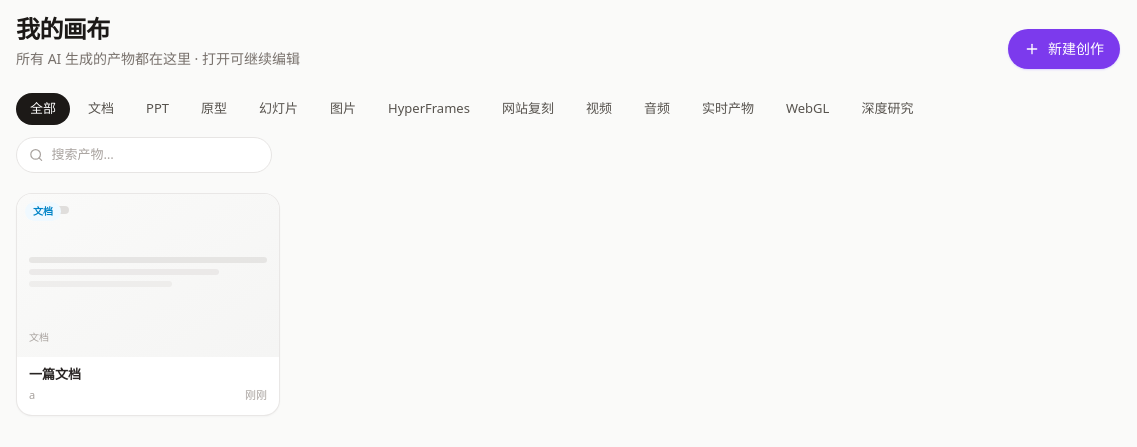
Test: 画布产物墙 ArtifactWall › 选中无产物的栏目（网站复刻）显示该栏目案例，而不是占位提示
Click the button "网站复刻": (528, 109) [488,93,568,124]
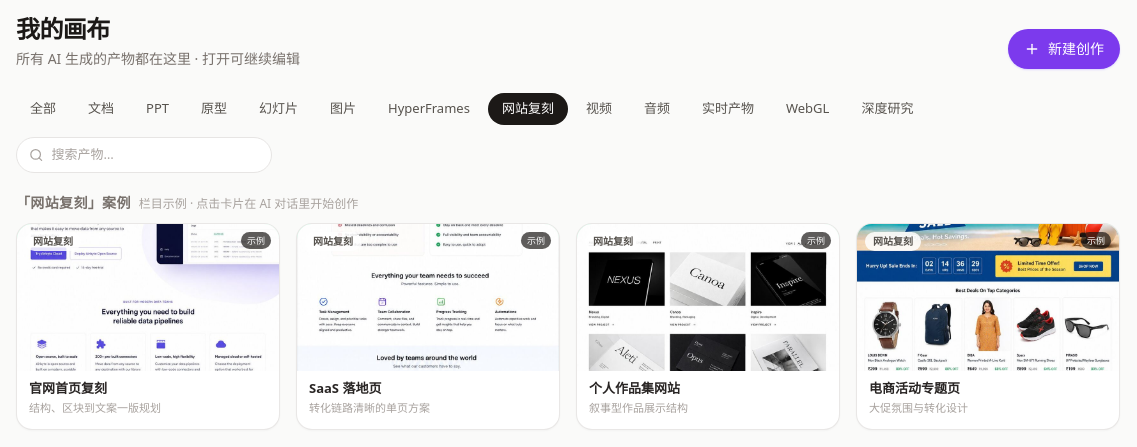
Expected: the heading "「网站复刻」案例" is shown, [16,192,131,212]
Expected: the text "官网首页复刻" is shown, [29,379,107,397]
Expected: the button "一篇文档" is gone
